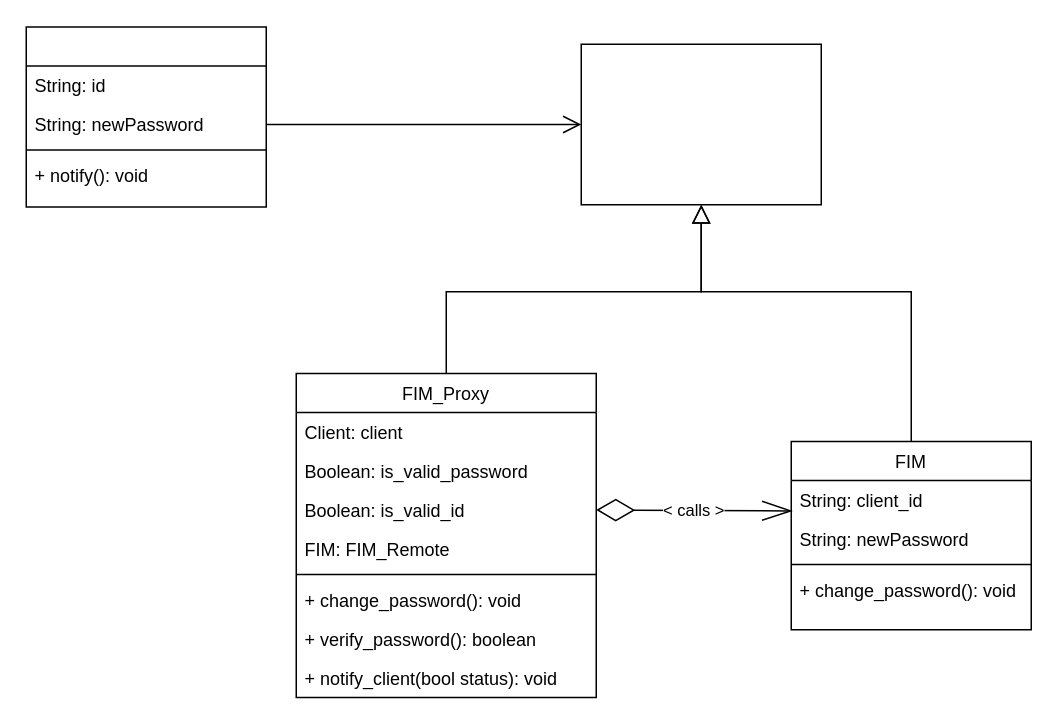
Some shapes in this 1058 by 728 pixel diagram are drawn without their labels. The box of each missing label's shape, as (x1, y1, x2, y2) in pixels:
<<Interface>> FIM + change_password(): void: (580, 43, 821, 205)
Client: (25, 26, 266, 207)
